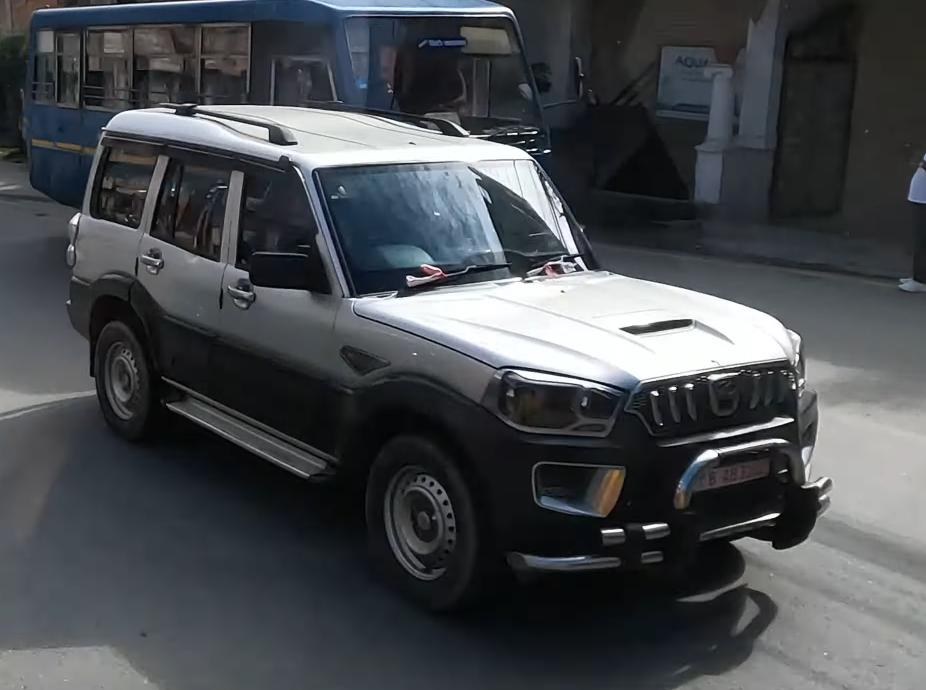SUV: (52, 81, 831, 625)
bus: (7, 0, 568, 209)
